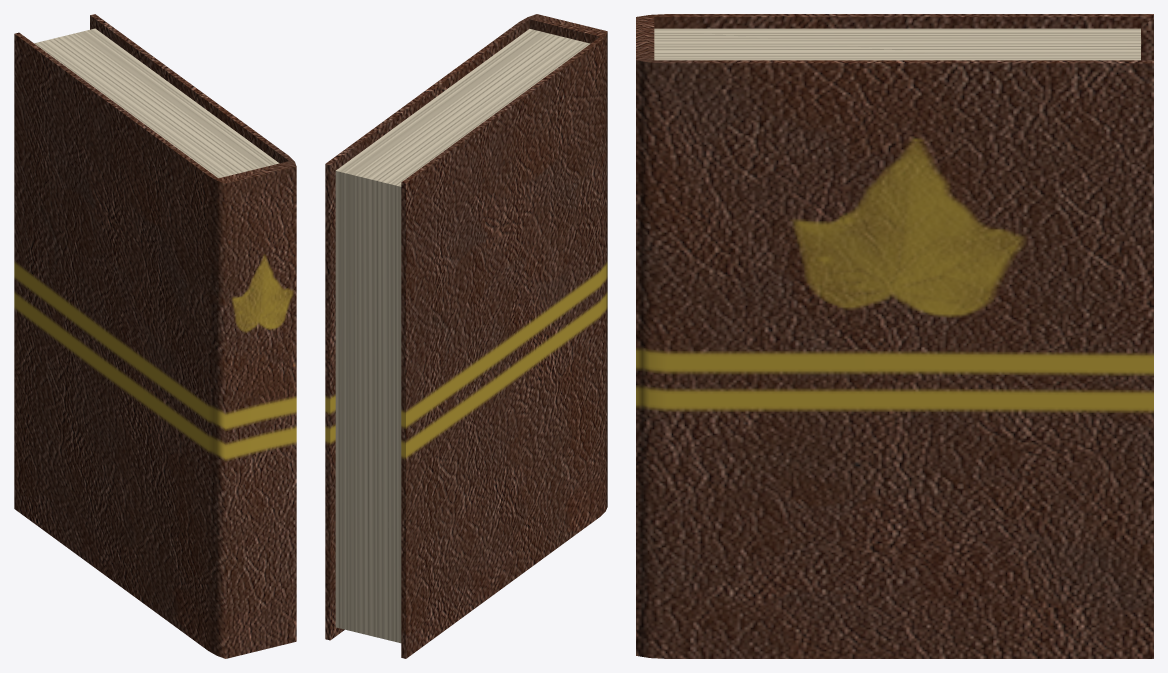
File: book_brown.fbx
The picture shows the model from 3 angles, left to right: view 1: azimuth 30°, elevation 25°; view 2: azimuth 150°, elevation 25°; view 3: azimuth 270°, elevation 25°; orthographic projection. The views are drawn at different scales.
Parts seen in each view (by area): view 1: book_brn; view 2: book_brn; view 3: book_brn.
Boxes of the visible parts, x1,y1,x2,y2 form: book_brn: [14, 14, 296, 658]; book_brn: [325, 14, 607, 658]; book_brn: [636, 14, 1153, 658].
Bounding box in the file's own units: 5.13 × 28.79 × 22.68.
